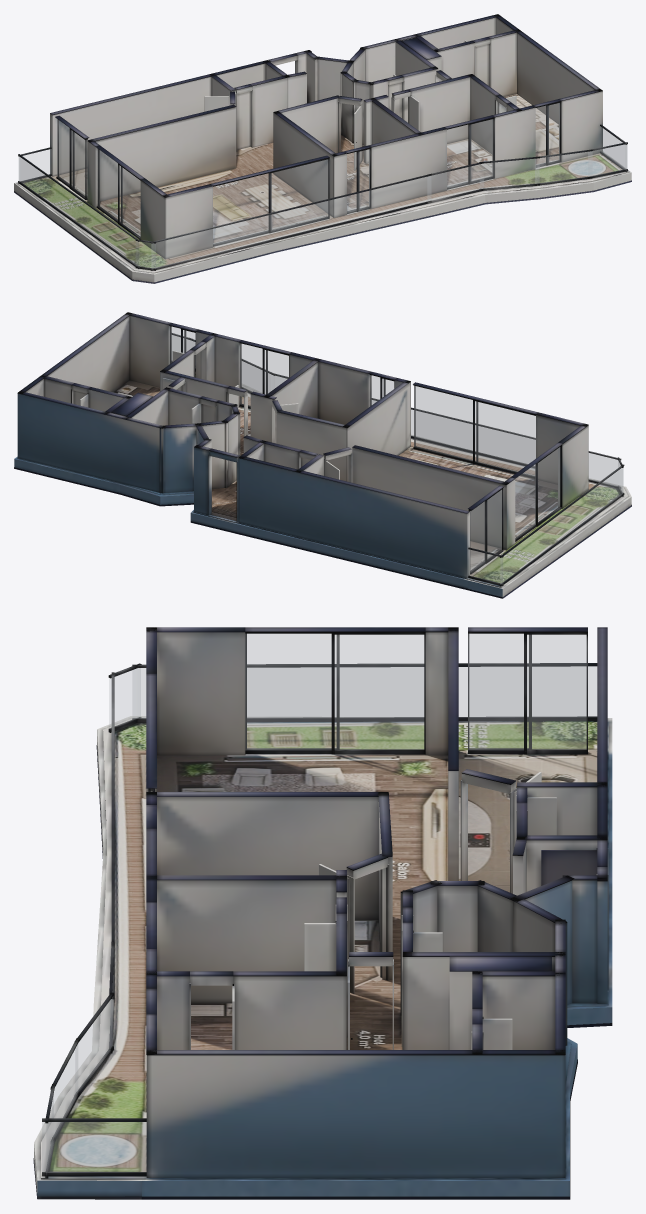
The picture shows the model from 3 angles, top to bottom: view 1: azimuth 30°, elevation 25°; view 2: azimuth 150°, elevation 25°; view 3: azimuth 270°, elevation 25°; orthographic projection. The views are drawn at different scales.
Visible parts, largest first — view 1: plan, railg1_m, glass2_m, railg8_m, glass0_m, glass4_m, railg5_m, glass1_m, railg4_m, railg6_m, glass5_m, glass3_m (+4 smaller); view 2: plan, glass2_m, railg1_m, railg8_m, glass0_m, glass4_m, glass1_m, railg0_m, railg5_m, glass5_m, glass3_m; view 3: plan, glass0_m, railg8_m, glass1_m, railg2_m, railg5_m, railg7_m, railg4_m.
Boxes of the visible parts, left/top/right/bottom form: plan: left=14, top=14, right=631, bottom=283; railg1_m: left=151, top=176, right=431, bottom=268; glass2_m: left=213, top=159, right=327, bottom=244; railg8_m: left=19, top=157, right=138, bottom=266; glass0_m: left=97, top=149, right=140, bottom=236; glass4_m: left=447, top=119, right=492, bottom=187; railg5_m: left=480, top=158, right=539, bottom=188; glass1_m: left=57, top=119, right=84, bottom=196; railg4_m: left=535, top=151, right=592, bottom=183; railg6_m: left=427, top=164, right=483, bottom=201; glass5_m: left=536, top=103, right=559, bottom=164; glass3_m: left=347, top=149, right=369, bottom=211; plan: left=14, top=312, right=631, bottom=598; glass2_m: left=414, top=386, right=535, bottom=475; railg1_m: left=372, top=400, right=620, bottom=485; railg8_m: left=500, top=467, right=623, bottom=583; glass0_m: left=515, top=447, right=559, bottom=538; glass4_m: left=240, top=343, right=288, bottom=406; glass1_m: left=470, top=490, right=501, bottom=571; railg0_m: left=469, top=549, right=502, bottom=583; railg5_m: left=242, top=361, right=274, bottom=393; glass5_m: left=170, top=326, right=195, bottom=363; glass3_m: left=370, top=375, right=393, bottom=405; plan: left=33, top=627, right=612, bottom=1199; glass0_m: left=245, top=634, right=423, bottom=749; railg8_m: left=133, top=666, right=596, bottom=718; glass1_m: left=468, top=634, right=586, bottom=749; railg2_m: left=42, top=1122, right=146, bottom=1172; railg5_m: left=75, top=997, right=112, bottom=1094; railg7_m: left=109, top=668, right=140, bottom=728; railg4_m: left=52, top=1045, right=77, bottom=1135.
Size of the model in its own units: 18.27 by 2.62 by 9.61.
2 materials, 1 textured.
